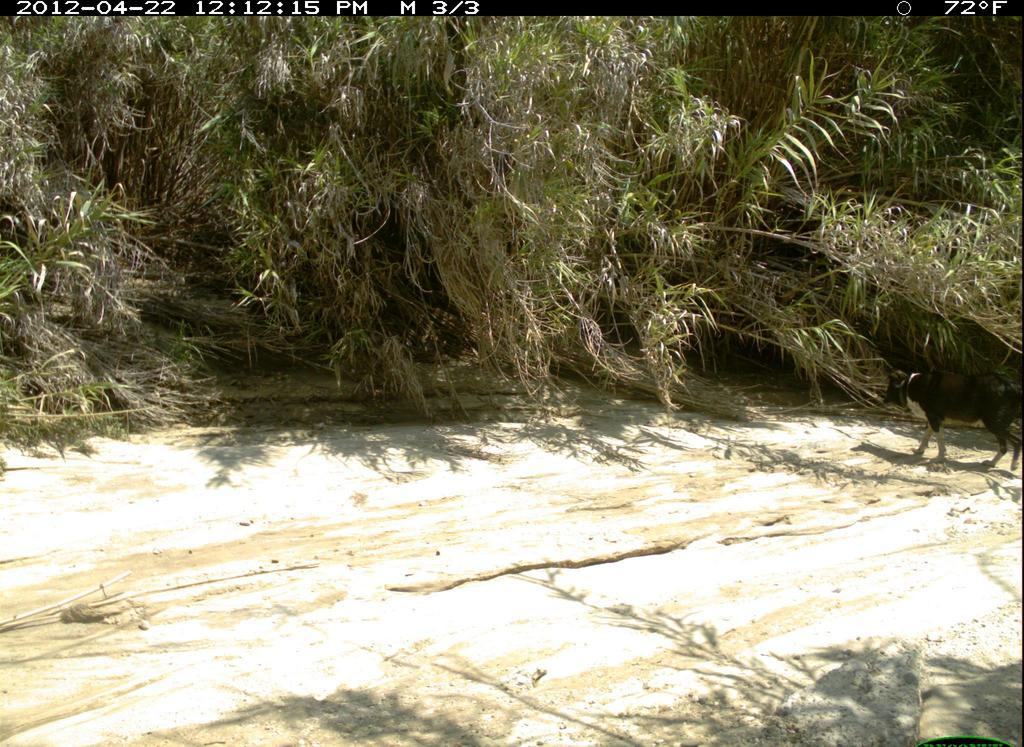dog: (876, 355, 1023, 482)
